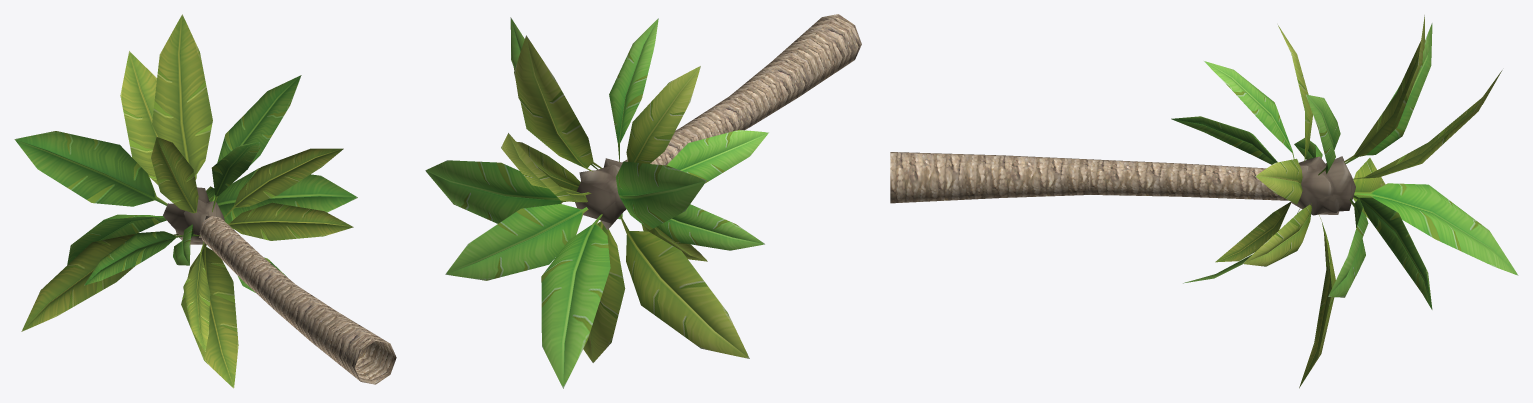
The model's file is Palmtree_A.fbx.
3 views of the same model, side by side, from view 1: azimuth 30°, elevation 25°; view 2: azimuth 150°, elevation 25°; view 3: azimuth 270°, elevation 25° (orthographic). The views are drawn at different scales.
Parts seen in each view (by area): view 1: Palmtree_A; view 2: Palmtree_A; view 3: Palmtree_A.
Part boxes in pixels (bbox=[...]): Palmtree_A: bbox=[14, 14, 396, 388]; Palmtree_A: bbox=[425, 14, 861, 388]; Palmtree_A: bbox=[890, 15, 1518, 388].
Size of the model in its own units: 6.51 by 6.6 by 9.97.
